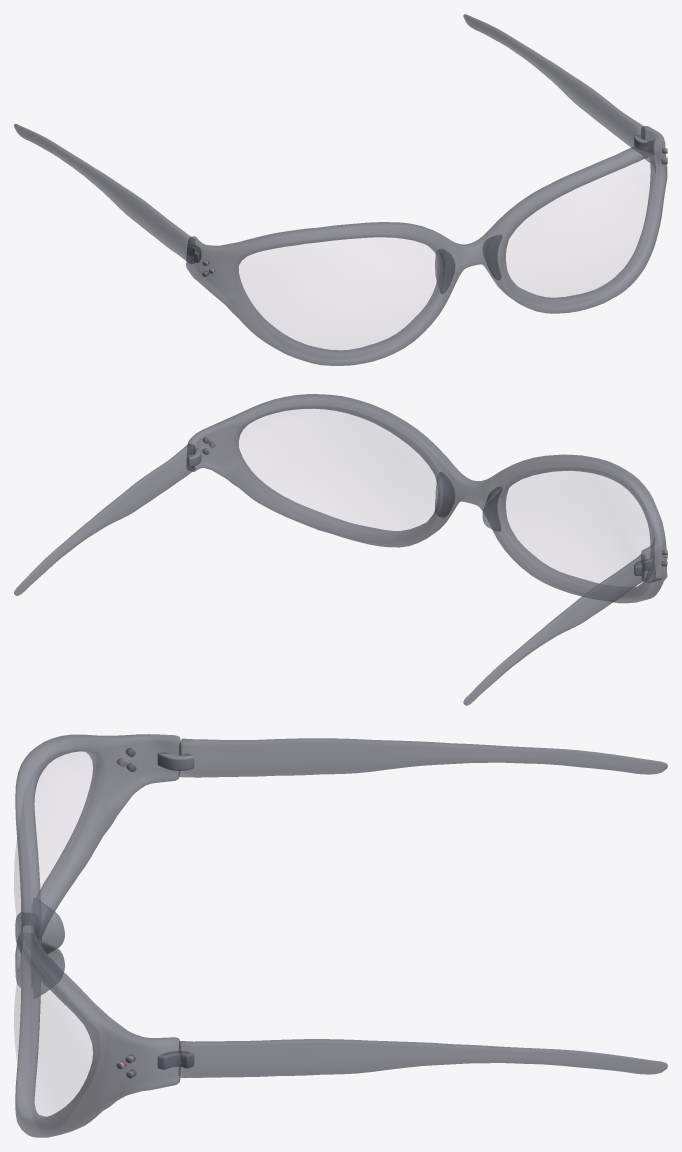
File: stone.glb
3 views of the same model, one above another, from view 1: azimuth 30°, elevation 25°; view 2: azimuth 150°, elevation 25°; view 3: azimuth 270°, elevation 25° (orthographic). The views are drawn at different scales.
Parts seen in each view (by area): view 1: model_3.002; view 2: model_3.002; view 3: model_3.002.
Part boxes in pixels (x1,y1,x2,y2): model_3.002: (14, 14, 667, 365); model_3.002: (14, 394, 667, 705); model_3.002: (14, 734, 667, 1137).
Bounding box in the file's own units: 2.14 × 0.6047 × 1.88.
